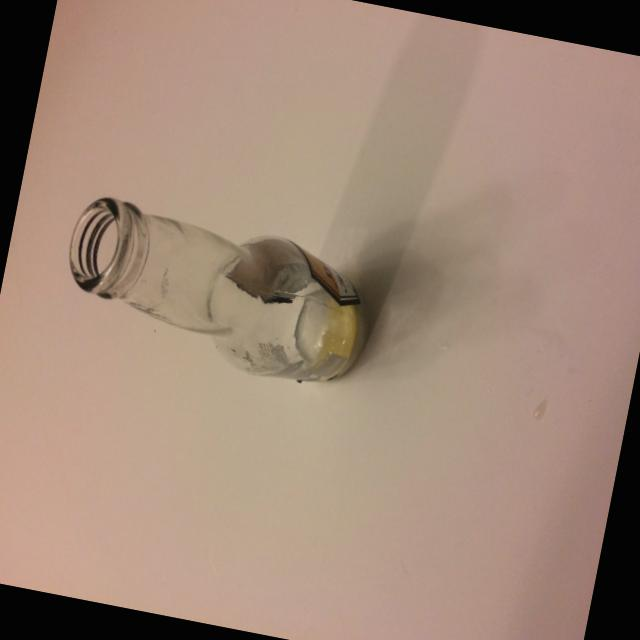Glass: (33, 152, 399, 401)
